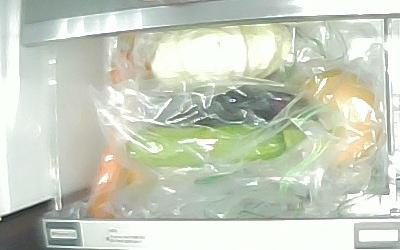cabbage_vinyl: (151, 23, 296, 89)
carrot_vinyl: (85, 98, 135, 217)
eggplant_vinyl: (155, 85, 311, 126)
pear_vinyl: (305, 68, 384, 167)
zucchini_vinyl: (124, 123, 315, 165)
